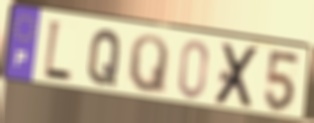0: (176, 39, 211, 102)
5: (261, 47, 302, 116)
L: (41, 17, 75, 86)
Q: (126, 33, 171, 98), (86, 28, 124, 88)
X: (212, 41, 263, 110)
